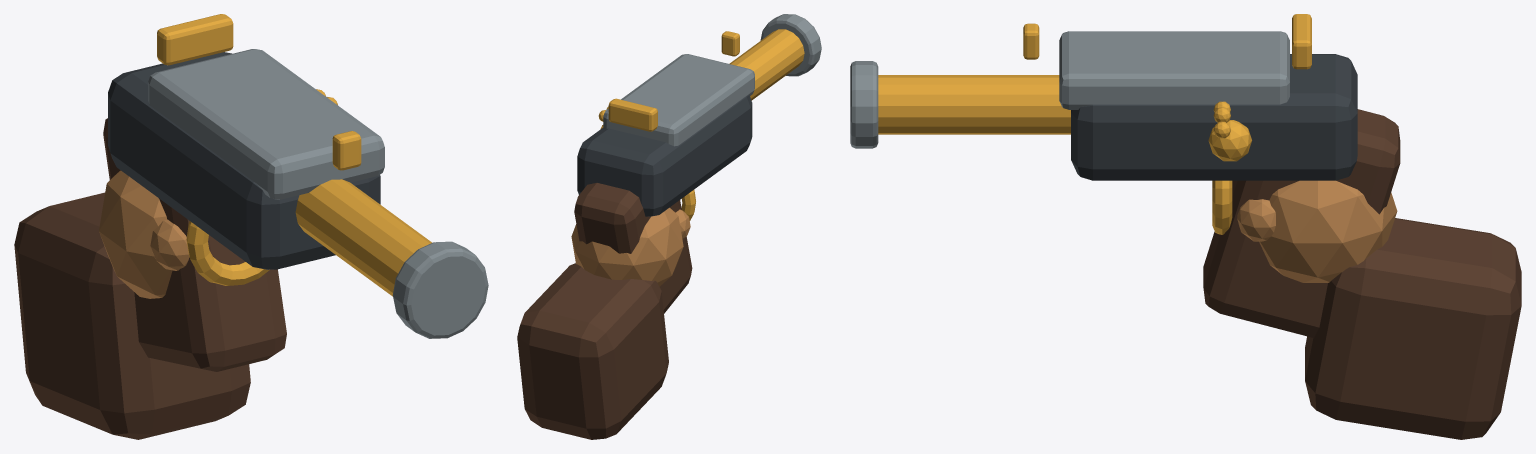
File: pawstol_viewmodel.glb
The picture shows the model from 3 angles, left to right: view 1: azimuth 30°, elevation 25°; view 2: azimuth 150°, elevation 25°; view 3: azimuth 270°, elevation 25°; orthographic projection. The views are drawn at different scales.
Visible parts, largest first — view 1: CobieLeatherSleeve, PawstolSlide, PawstolReceiver, PawstolGrip, PawstolBarrel, PawstolMuzzle, CobieGripPaw, PawstolRearSight, PawstolTriggerGuard, CobieGripToe0, PawstolFrontSight; view 2: CobieLeatherSleeve, PawstolReceiver, PawstolSlide, PawstolGrip, CobieGripPaw, PawstolBarrel, PawstolMuzzle, PawstolRearSight, PawstolFrontSight, PawstolTriggerGuard; view 3: CobieLeatherSleeve, PawstolReceiver, PawstolSlide, PawstolGrip, PawstolBarrel, CobieGripPaw, PawstolMuzzle, CobieGripToe3, PawBadgePad, PawstolRearSight, PawstolTriggerGuard.
Boxes of the visible parts, x1,y1,x2,y2 form: CobieLeatherSleeve: [14, 192, 250, 439]; PawstolSlide: [148, 49, 384, 199]; PawstolReceiver: [108, 52, 380, 269]; PawstolGrip: [103, 118, 286, 371]; PawstolBarrel: [295, 179, 431, 296]; PawstolMuzzle: [392, 241, 488, 338]; CobieGripPaw: [99, 170, 172, 298]; PawstolRearSight: [157, 14, 233, 65]; PawstolTriggerGuard: [186, 221, 269, 285]; CobieGripToe0: [150, 219, 189, 270]; PawstolFrontSight: [332, 131, 361, 170]; CobieLeatherSleeve: [517, 263, 668, 439]; PawstolReceiver: [577, 95, 752, 216]; PawstolSlide: [603, 54, 754, 146]; PawstolGrip: [574, 183, 692, 313]; CobieGripPaw: [571, 207, 683, 286]; PawstolBarrel: [729, 29, 804, 100]; PawstolMuzzle: [760, 14, 821, 76]; PawstolRearSight: [608, 98, 657, 131]; PawstolFrontSight: [721, 31, 739, 56]; PawstolTriggerGuard: [681, 190, 695, 220]; CobieLeatherSleeve: [1305, 218, 1521, 439]; PawstolReceiver: [1071, 54, 1357, 180]; PawstolSlide: [1059, 31, 1289, 109]; PawstolGrip: [1203, 109, 1400, 337]; PawstolBarrel: [878, 75, 1070, 134]; CobieGripPaw: [1259, 180, 1397, 282]; PawstolMuzzle: [850, 61, 878, 148]; CobieGripToe3: [1237, 199, 1275, 241]; PawBadgePad: [1208, 120, 1251, 161]; PawstolRearSight: [1292, 14, 1311, 69]; PawstolTriggerGuard: [1212, 180, 1232, 234].
Size of the model in its own units: 0.4411 by 1.09 by 1.69.
